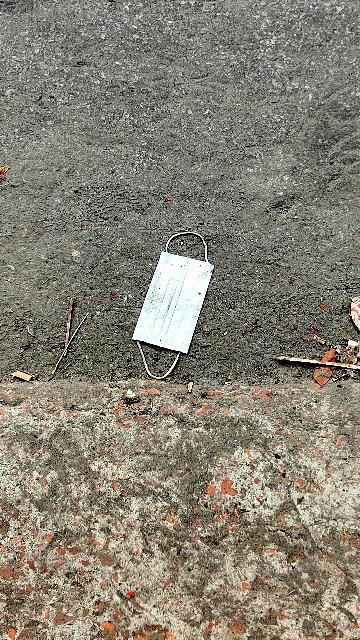mask: (117, 230, 231, 388)
